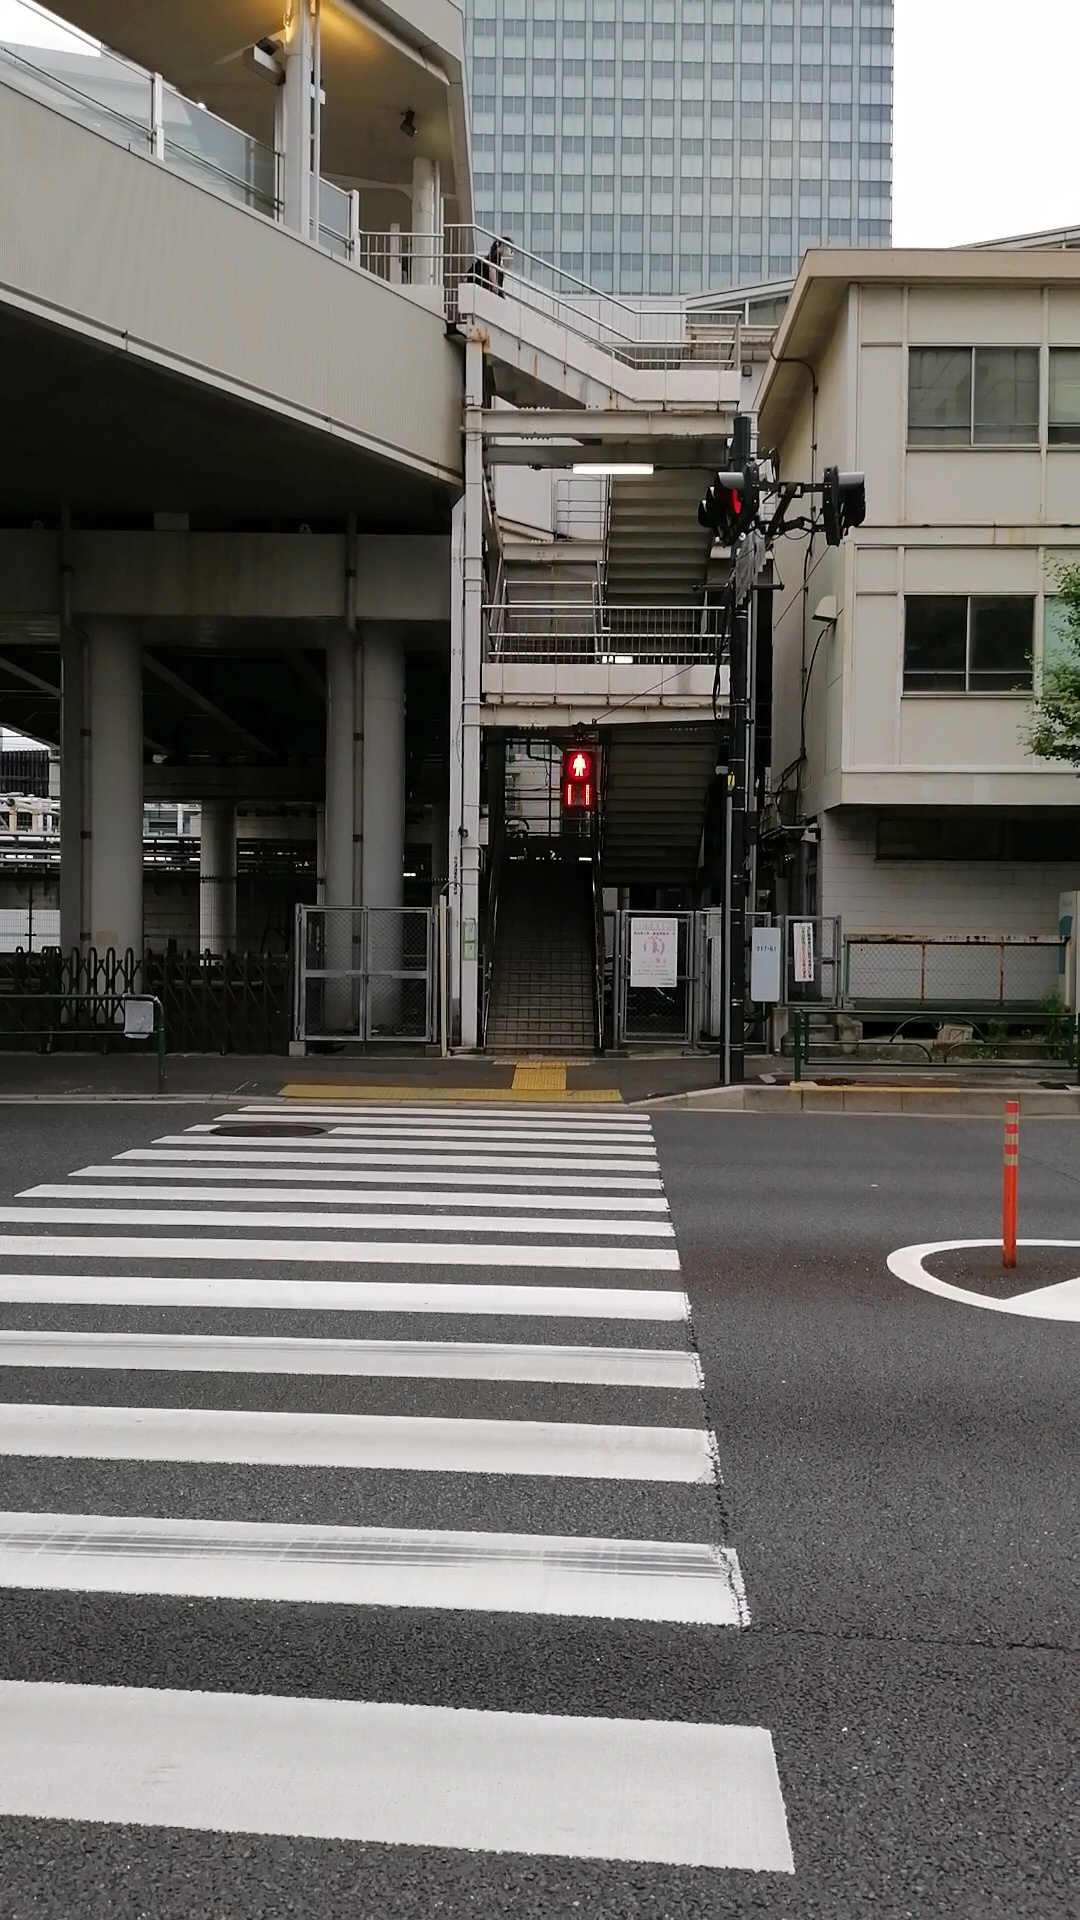red: (562, 749, 595, 810)
